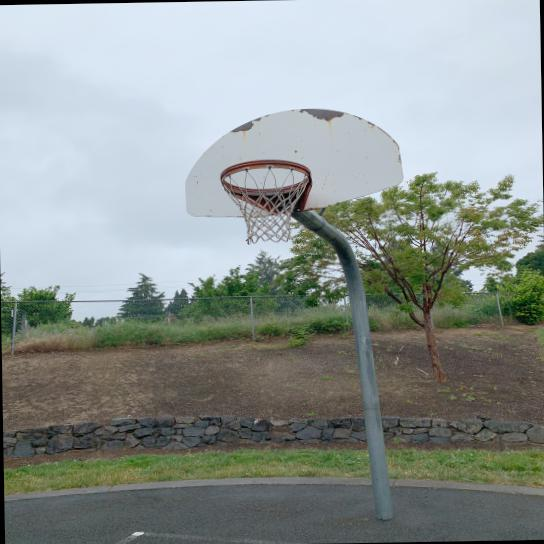basketball-hoop: (217, 155, 317, 246)
